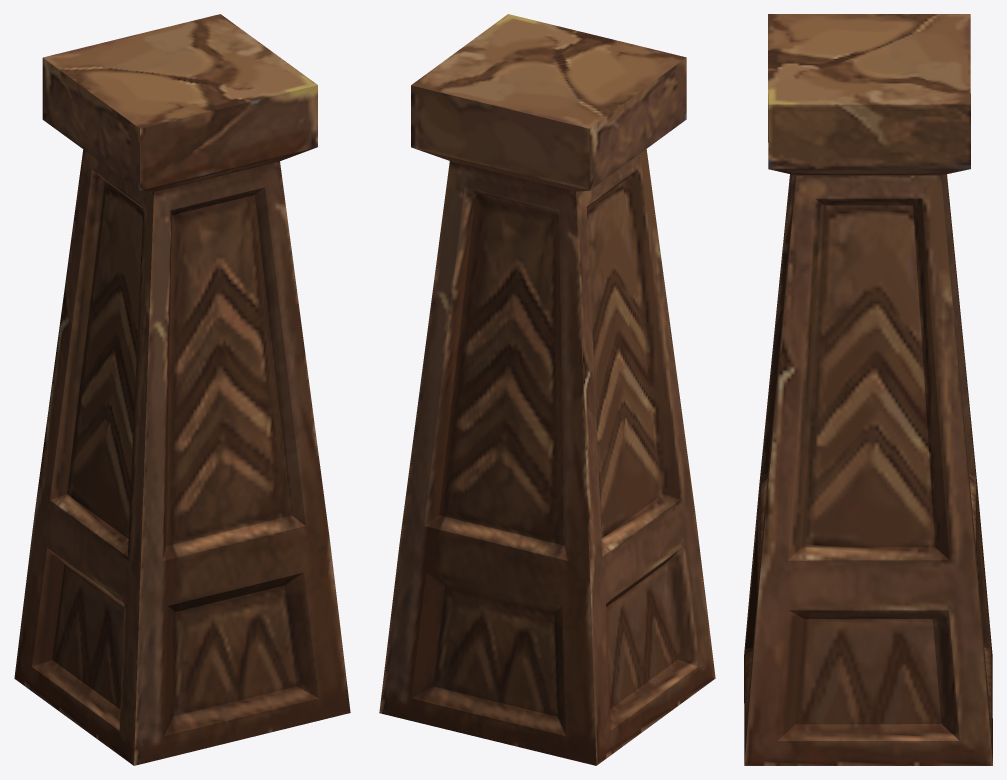
Rendered from ZhuZi02.FBX.
3 renders of one model, left to right at view 1: azimuth 30°, elevation 25°; view 2: azimuth 150°, elevation 25°; view 3: azimuth 270°, elevation 25°, orthographic. The views are drawn at different scales.
Visible parts, largest first — view 1: ZhiZi02; view 2: ZhiZi02; view 3: ZhiZi02.
Boxes of the visible parts, left/top/right/bottom form: ZhiZi02: left=14, top=14, right=350, bottom=765; ZhiZi02: left=379, top=14, right=715, bottom=765; ZhiZi02: left=744, top=14, right=992, bottom=765.
Bounding box in the file's own units: 83.45 × 230 × 79.59.
